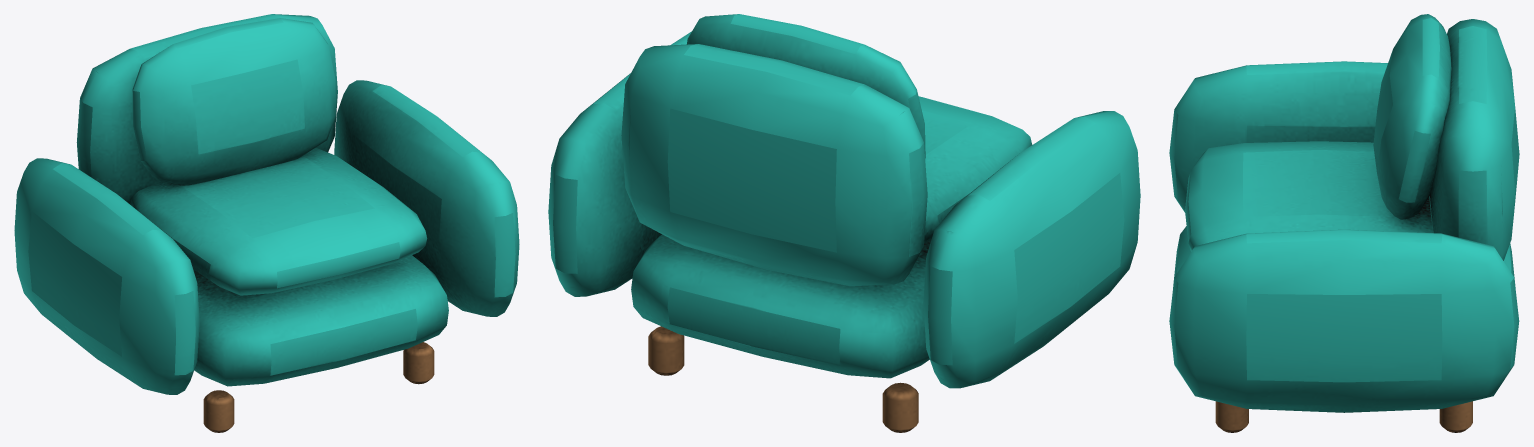
File: armchair.glb
The picture shows the model from 3 angles, left to right: view 1: azimuth 30°, elevation 25°; view 2: azimuth 150°, elevation 25°; view 3: azimuth 270°, elevation 25°; orthographic projection. The views are drawn at different scales.
Visible parts, largest first — view 1: armchair; view 2: armchair; view 3: armchair.
Part boxes in pixels (x1,y1,x2,y2): armchair: (14, 14, 519, 432); armchair: (548, 14, 1140, 432); armchair: (1169, 14, 1519, 432).
Size of the model in its own units: 1.18 by 0.8883 by 0.8446.
Materials: 2 (2 with a texture image).
